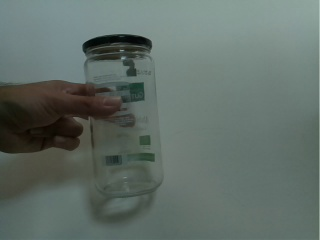pote cristal: (80, 33, 168, 202)
